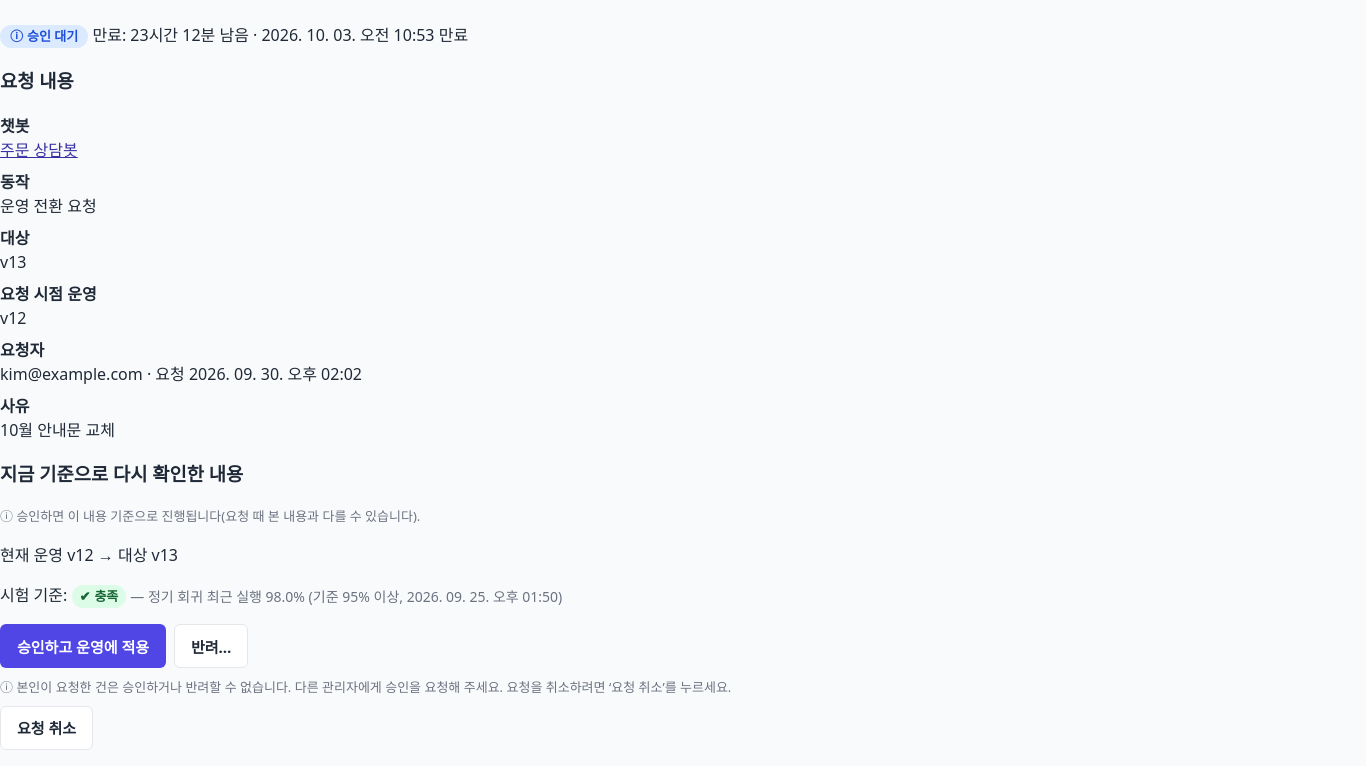
Test case: AP-2 승인 요청 상세 › 본인이 요청한 건: 승인·반려는 aria-disabled + 이유이고 "요청 취소"만 쓸 수 있다
The image size is (1366, 766).
(page scrolled)
Click the button "승인하고 운영에 적용". click: (83, 646)
box: [0, 624, 166, 668]
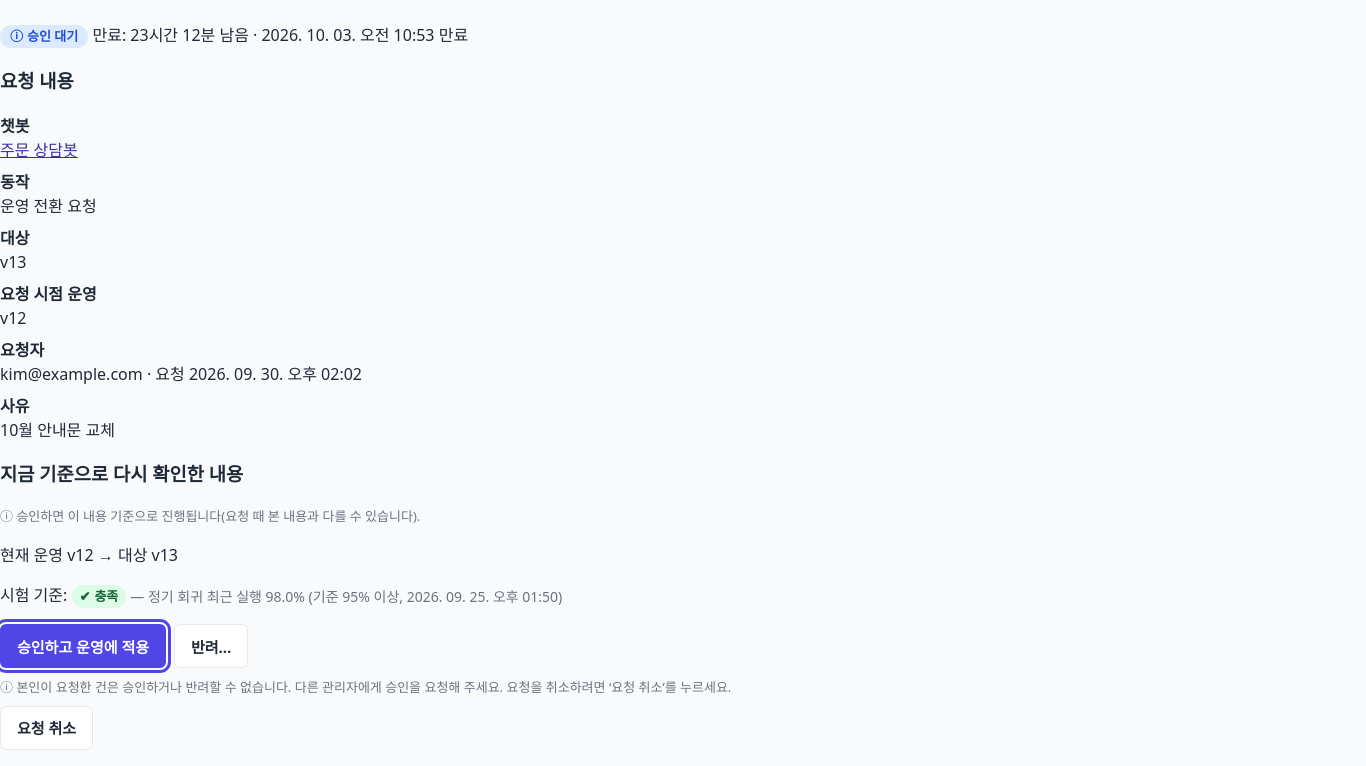
Click the button "요청 취소". click: (47, 728)
box: [0, 706, 93, 750]
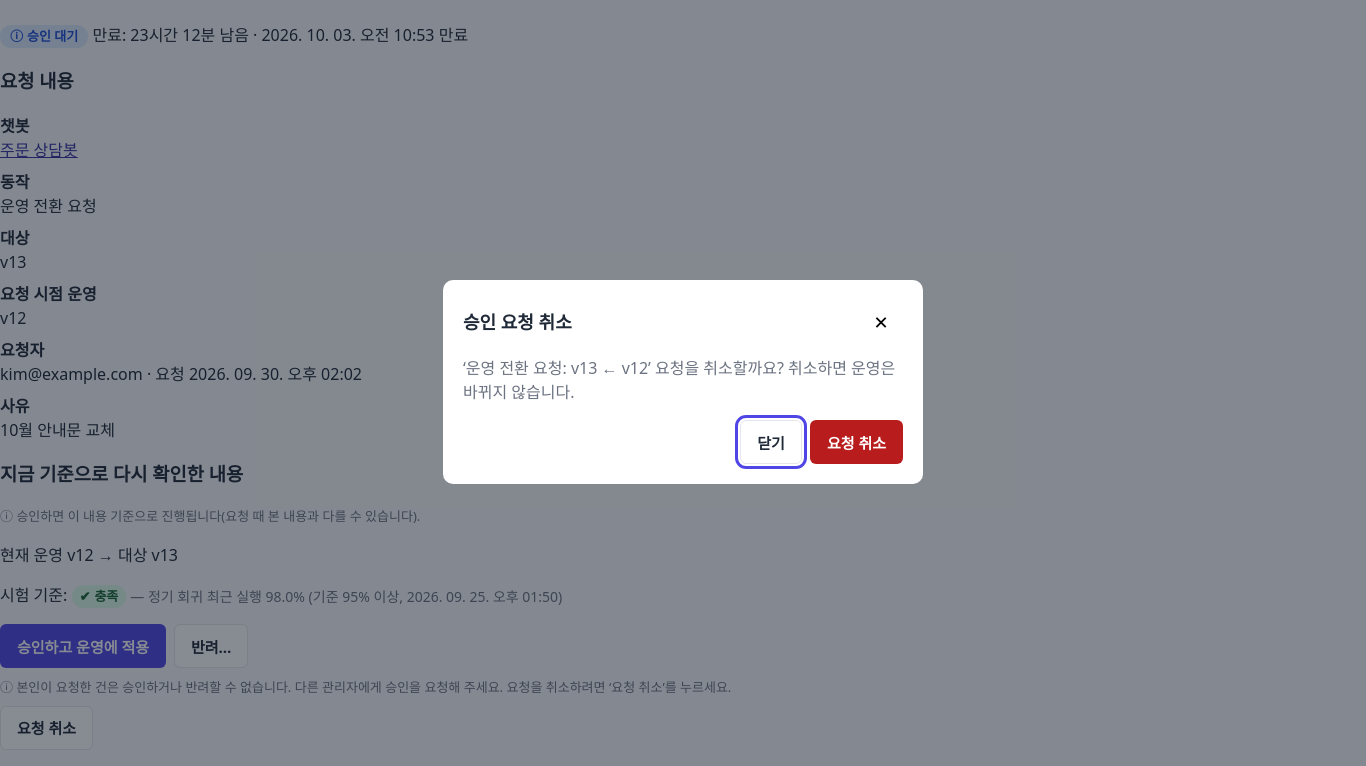
Click the button "요청 취소". click: (856, 442)
box: [810, 420, 903, 464]
(page scrolled)
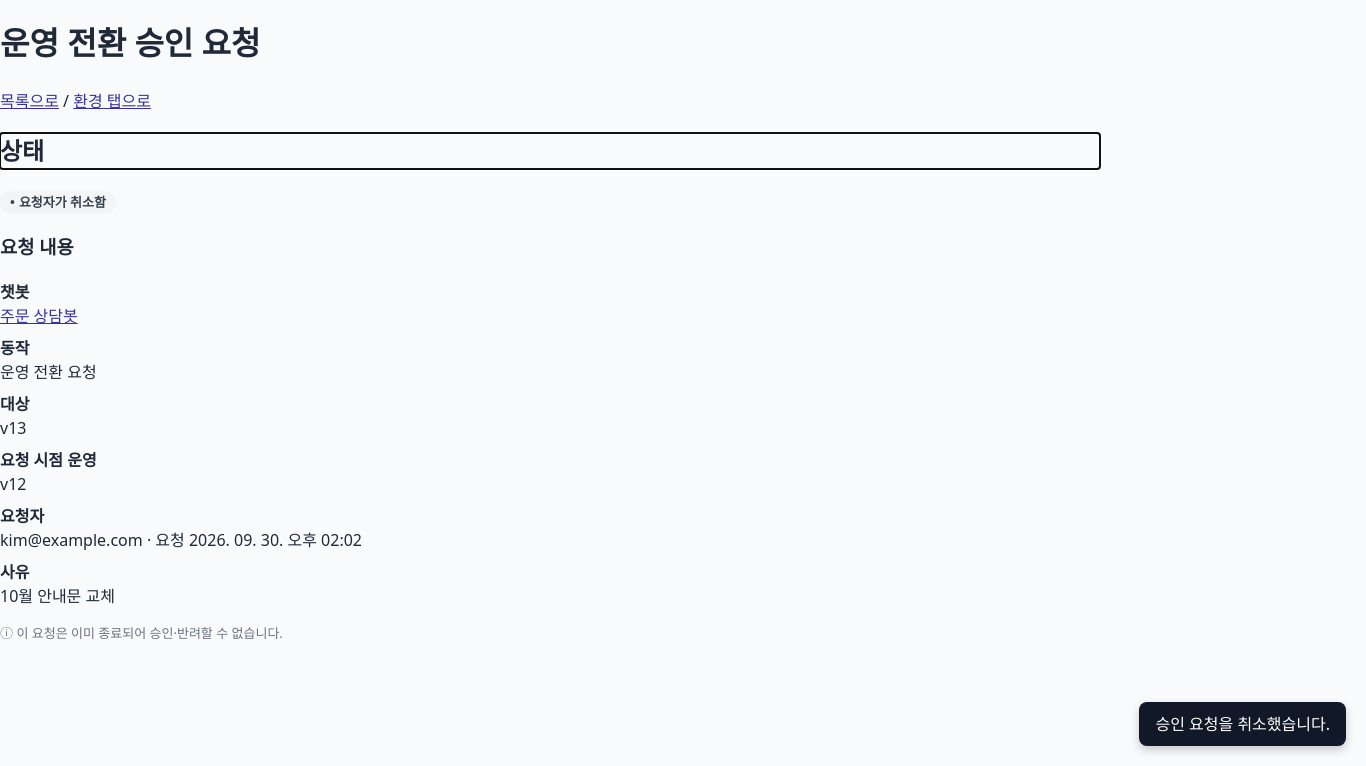
Now the text "요청자가 취소함" is shown, box [19, 193, 106, 211]
